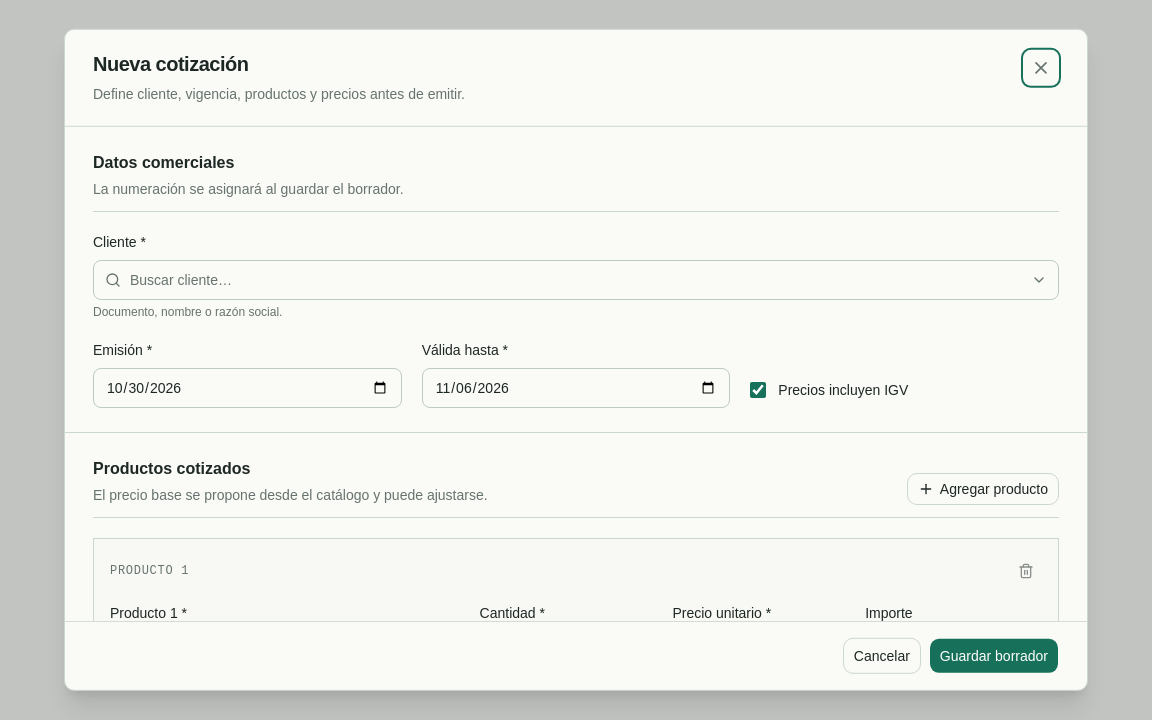
Test case: DialogoCotizacion › muestra los errores de selección cuando faltan cliente y producto
The width and height of the screenshot is (1152, 720).
Click the button "Guardar borrador".
click(994, 656)  # box [929, 638, 1059, 674]
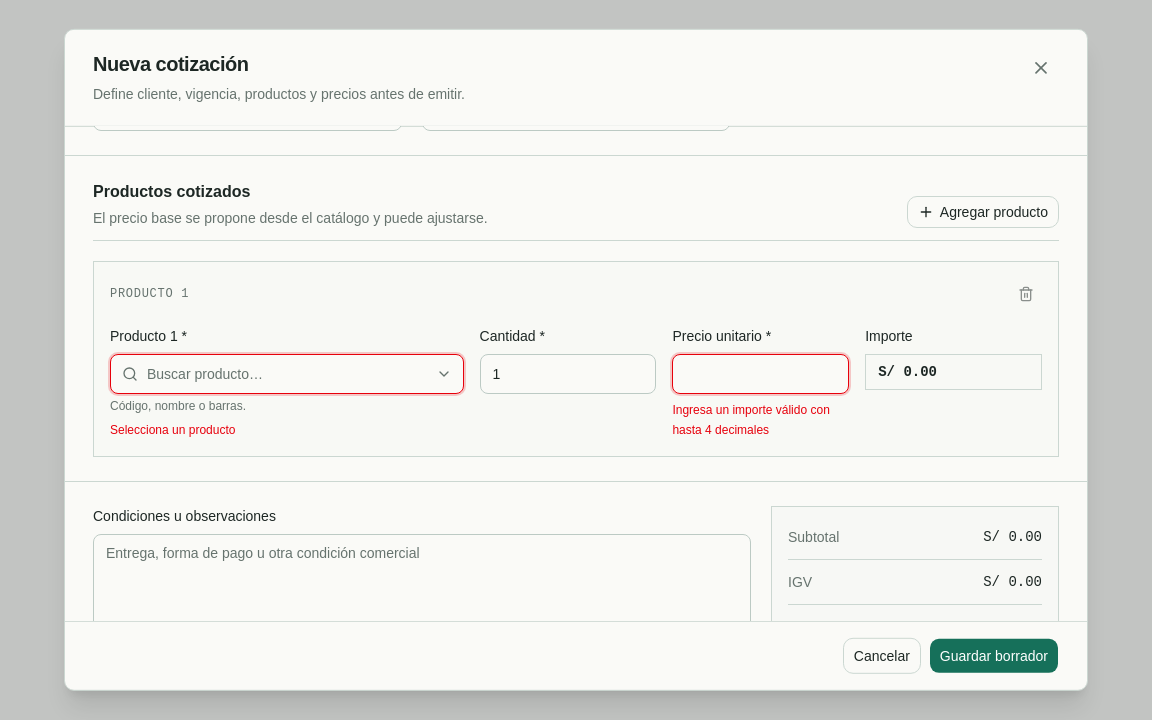
Check: the text "Selecciona un producto" is shown, box [110, 423, 235, 437]
